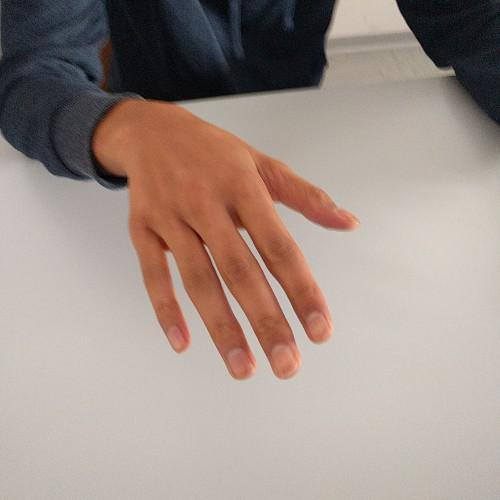paper: (124, 105, 372, 396)
